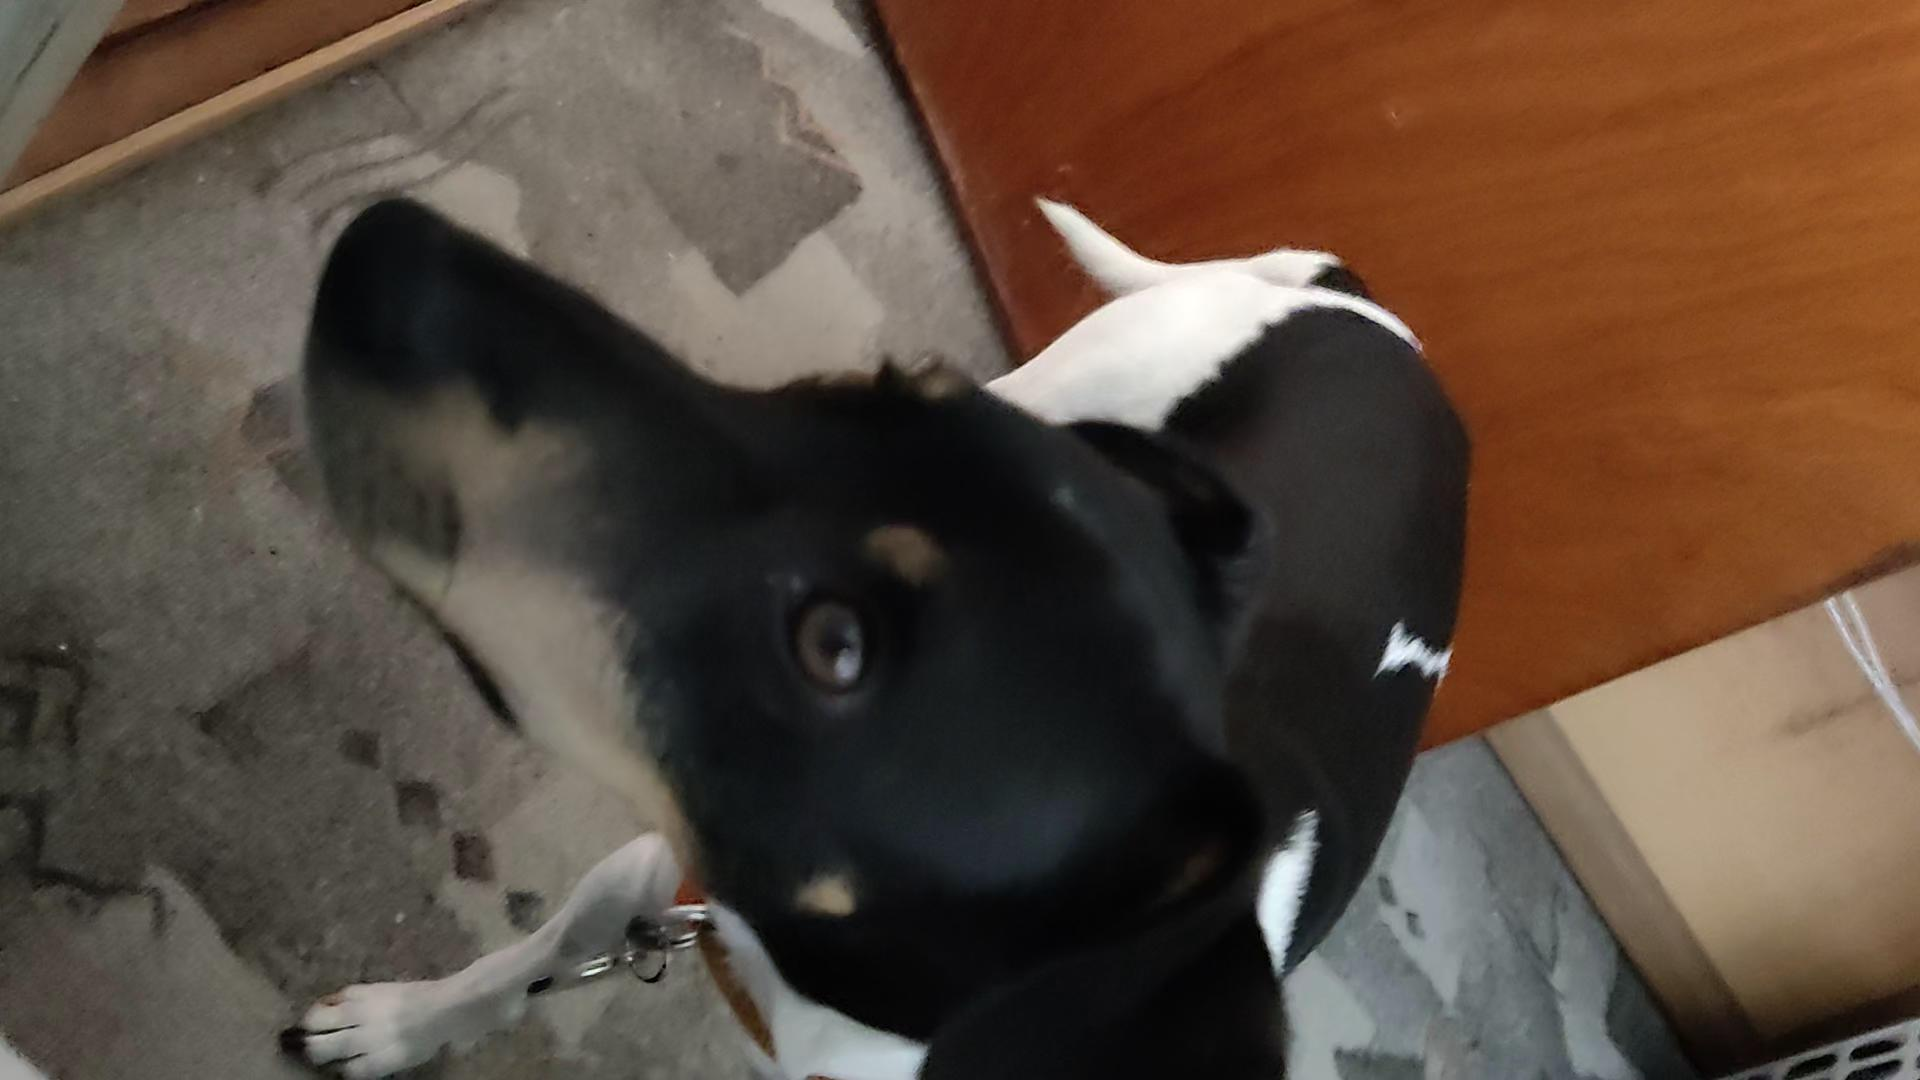Dog: (266, 183, 1485, 1079)
